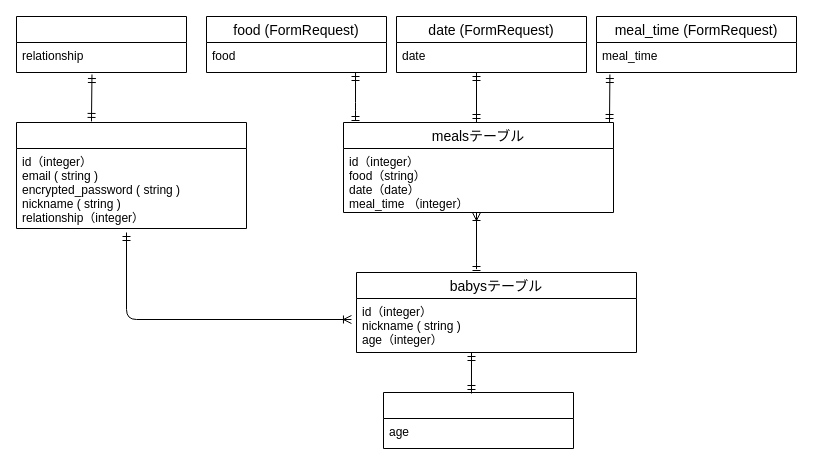
Some shapes in this 813 by 465 pixel diagram are drawn without their labels. The shapes that lost their labels are listed below. From the top down, each one's box as (x1, y1, x2, y2) in pixels, then its label:
(16, 16, 186, 72): relationship(FormRequest)
(16, 122, 246, 228): usersテーブル
(382, 392, 574, 448): age (FormRequest)
